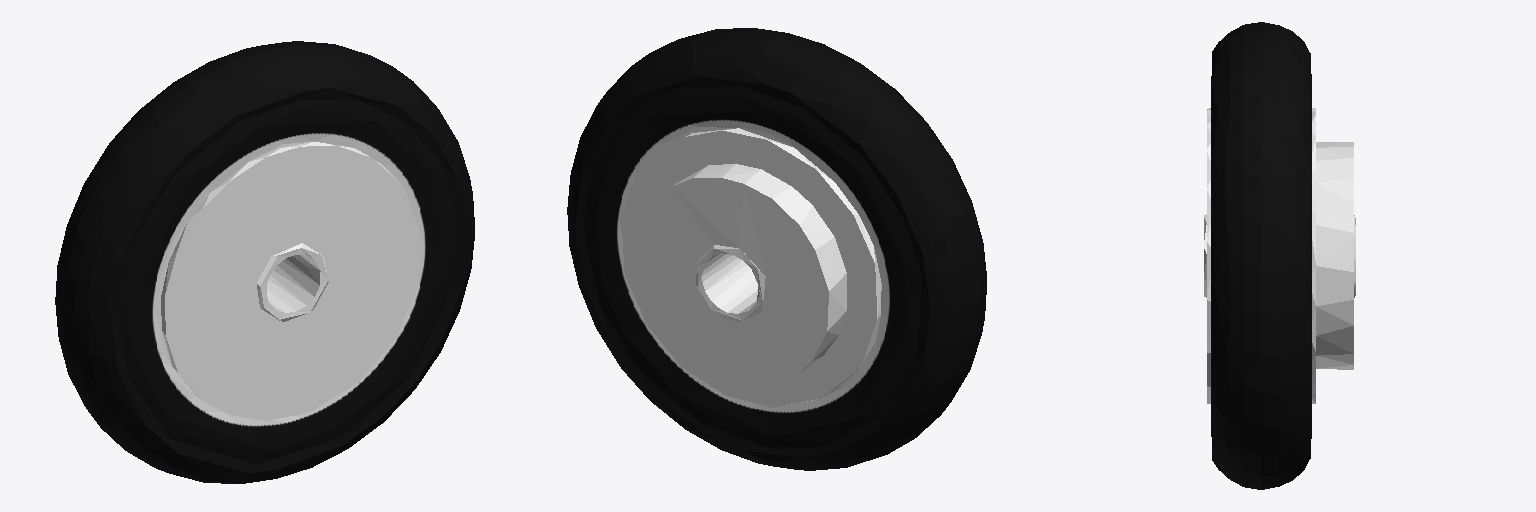
3 views of the same model, side by side, from view 1: azimuth 30°, elevation 25°; view 2: azimuth 150°, elevation 25°; view 3: azimuth 270°, elevation 25° (orthographic).
Parts seen in each view (by area): view 1: /ambf/env/pr2/bl_caster_r_wheel_link_/ambf/env/pr2/bl_caster_r_w; view 2: /ambf/env/pr2/bl_caster_r_wheel_link_/ambf/env/pr2/bl_caster_r_w; view 3: /ambf/env/pr2/bl_caster_r_wheel_link_/ambf/env/pr2/bl_caster_r_w.
Part boxes in pixels (bbox=[...]): /ambf/env/pr2/bl_caster_r_wheel_link_/ambf/env/pr2/bl_caster_r_w: bbox=[55, 41, 474, 483]; /ambf/env/pr2/bl_caster_r_wheel_link_/ambf/env/pr2/bl_caster_r_w: bbox=[567, 28, 986, 470]; /ambf/env/pr2/bl_caster_r_wheel_link_/ambf/env/pr2/bl_caster_r_w: bbox=[1204, 22, 1355, 489].
Bounding box in the file's own units: 0.1588 × 0.1588 × 0.0517.
1 materials, 1 textured.